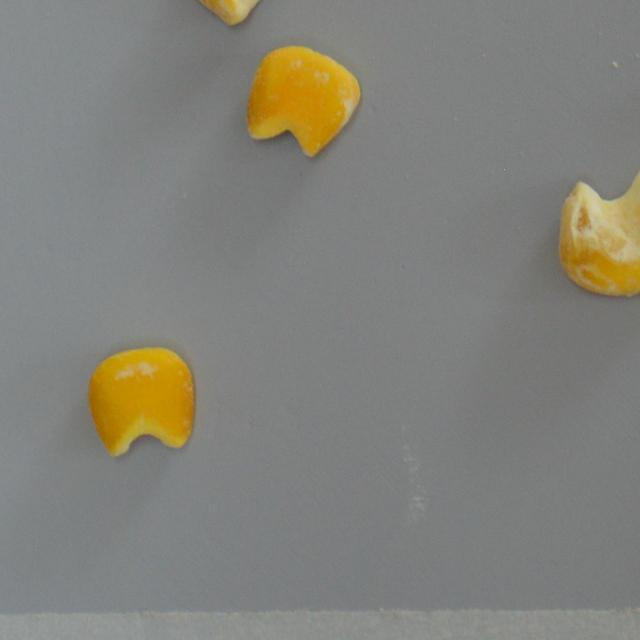dañado: (238, 38, 366, 160), (86, 338, 204, 468), (556, 158, 640, 303)
pelicula: (180, 0, 296, 28)
